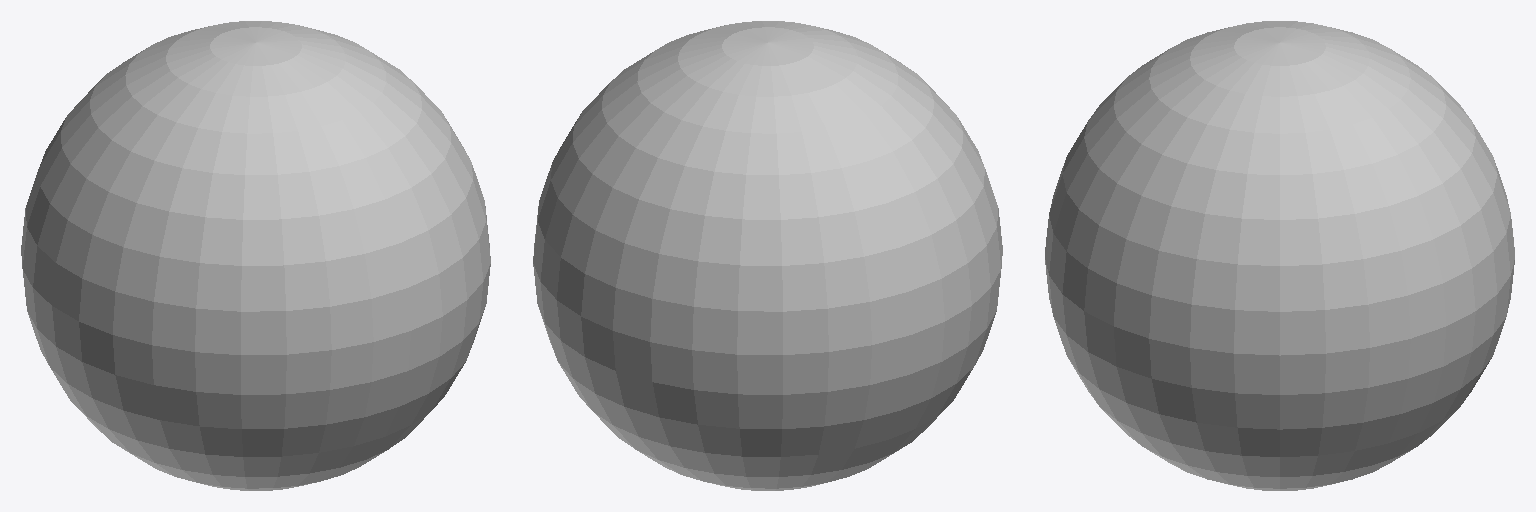
File: teapot.obj
3 views of the same model, side by side, from view 1: azimuth 30°, elevation 25°; view 2: azimuth 150°, elevation 25°; view 3: azimuth 270°, elevation 25° (orthographic).
Parts seen in each view (by area): view 1: Sphere; view 2: Sphere; view 3: Sphere.
Part boxes in pixels (x1,y1,x2,y2): Sphere: (21,21,490,490); Sphere: (533,21,1002,490); Sphere: (1045,21,1514,490).
Size of the model in its own units: 1.55 by 1.55 by 1.55.